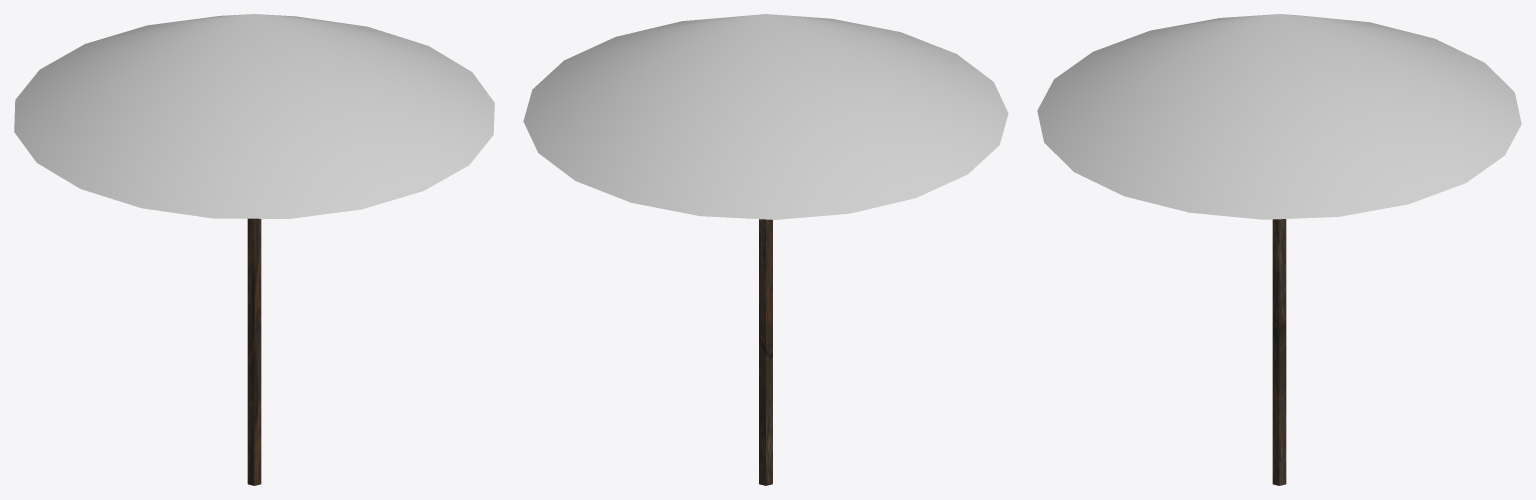
Rendered from Umbrella.fbx.
3 renders of one model, left to right at view 1: azimuth 30°, elevation 25°; view 2: azimuth 150°, elevation 25°; view 3: azimuth 270°, elevation 25°, orthographic.
Visible parts, largest first — view 1: pCone1, pCylinder1; view 2: pCone1, pCylinder1; view 3: pCone1, pCylinder1.
Boxes of the visible parts, x1=… form: pCone1: x1=14, y1=14, x2=494, y2=218; pCylinder1: x1=247, y1=218, x2=261, y2=485; pCone1: x1=523, y1=14, x2=1008, y2=219; pCylinder1: x1=759, y1=219, x2=772, y2=485; pCone1: x1=1037, y1=14, x2=1521, y2=219; pCylinder1: x1=1272, y1=219, x2=1286, y2=485.
Size of the model in its own units: 14.63 by 15.61 by 14.63.
